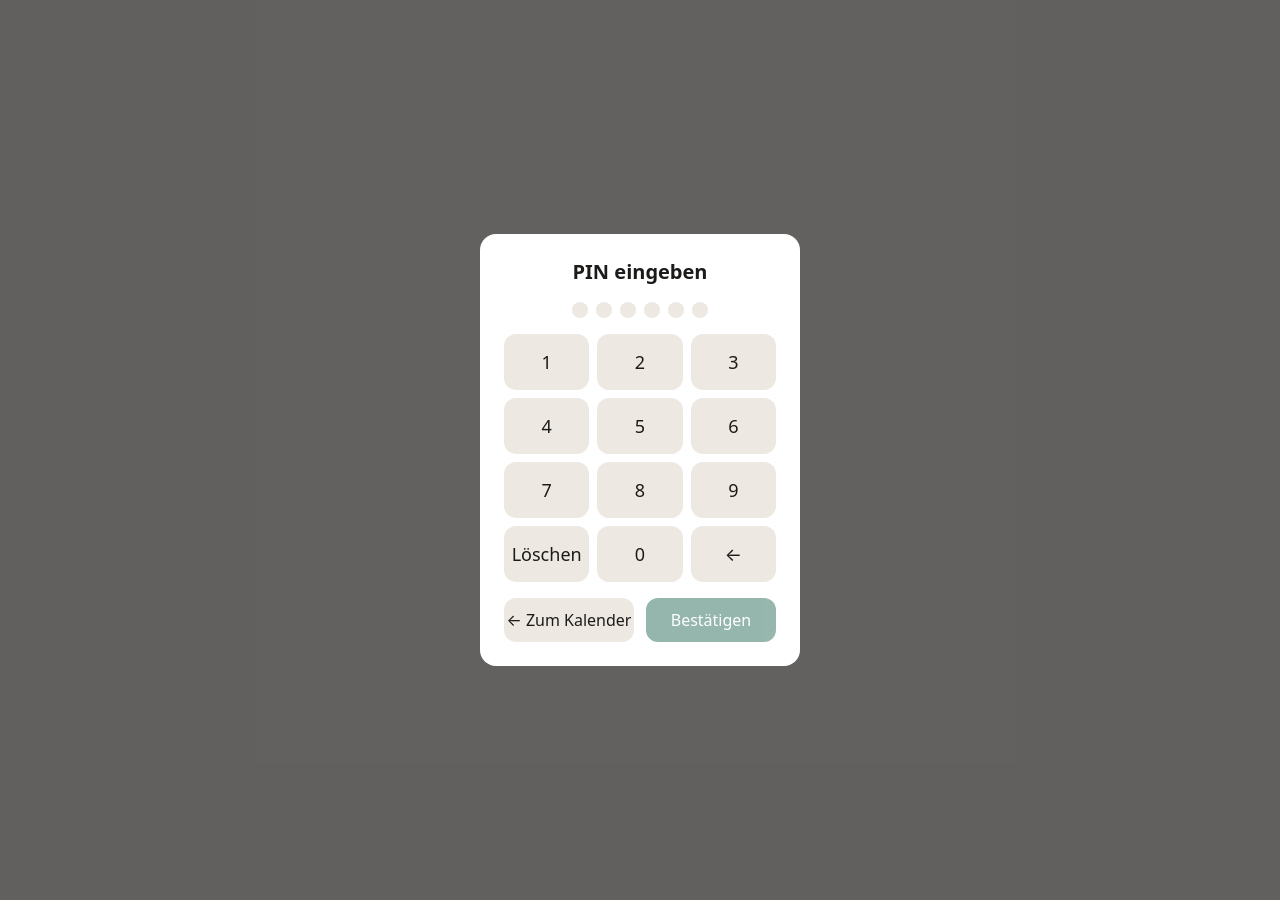
PinGate › shows a fallback error when verification fails with a non-Error
Click the button "1" at (547, 362), box [504, 334, 589, 390]
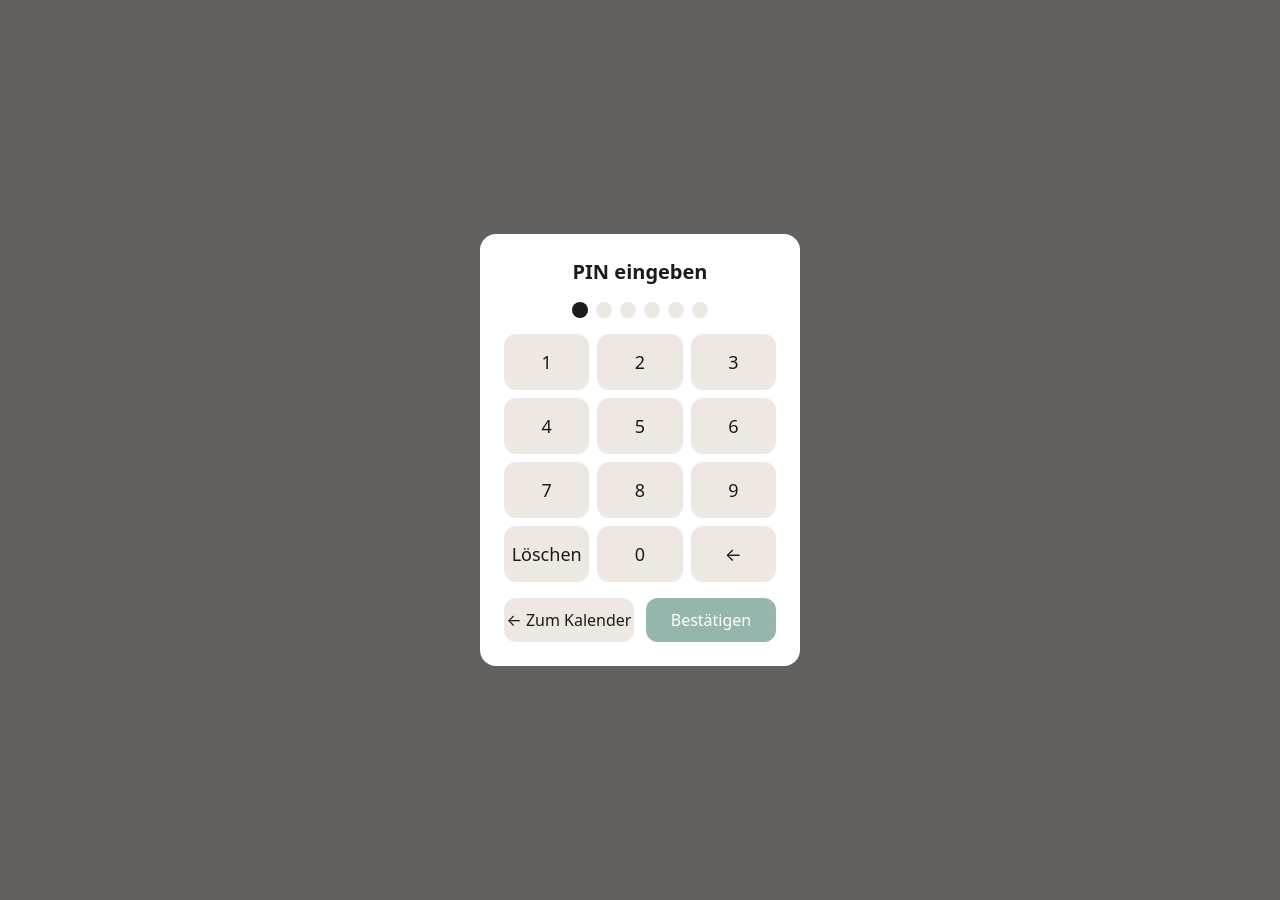
Click the button "2" at (640, 362), box [597, 334, 683, 390]
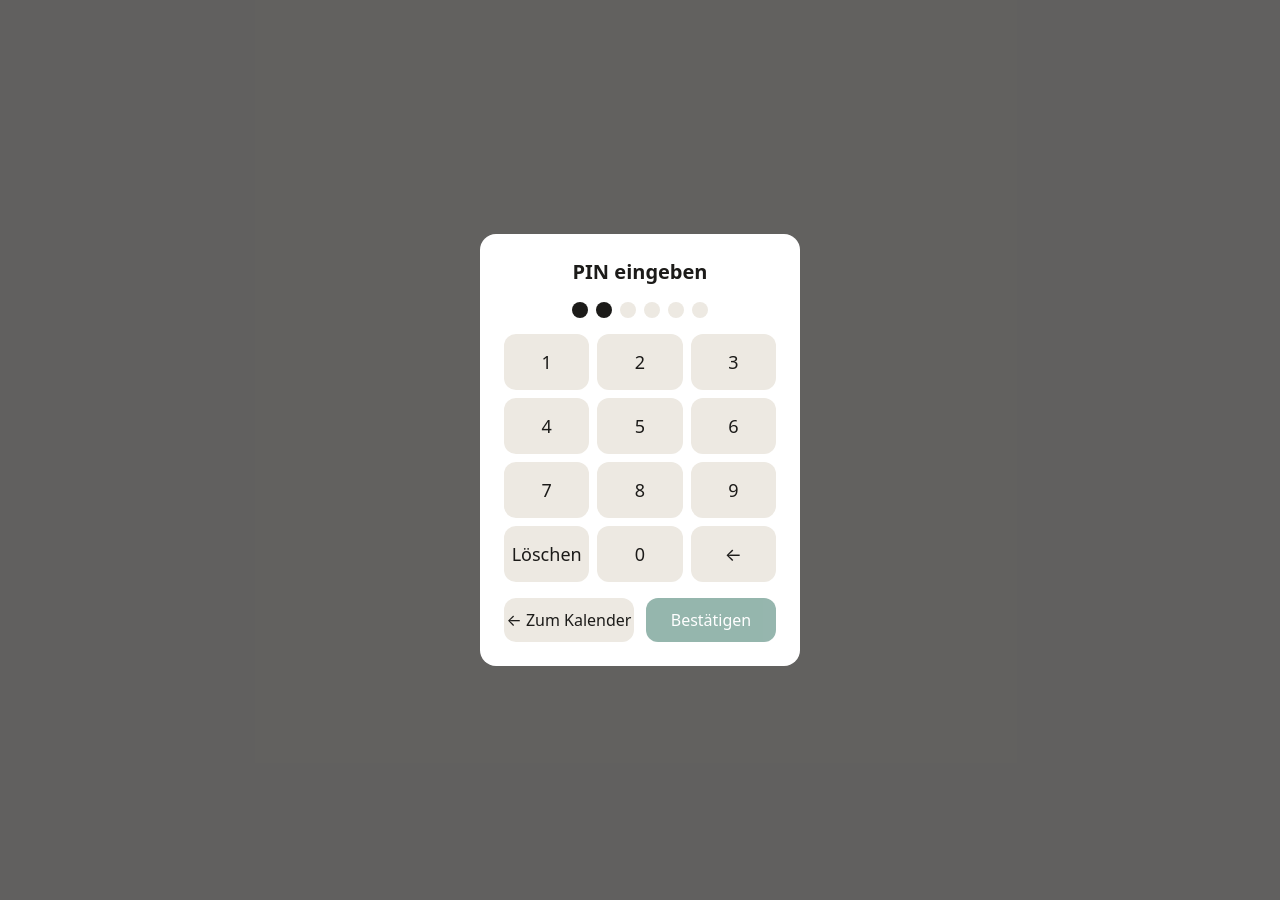
Click the button "3" at (733, 362), box [691, 334, 776, 390]
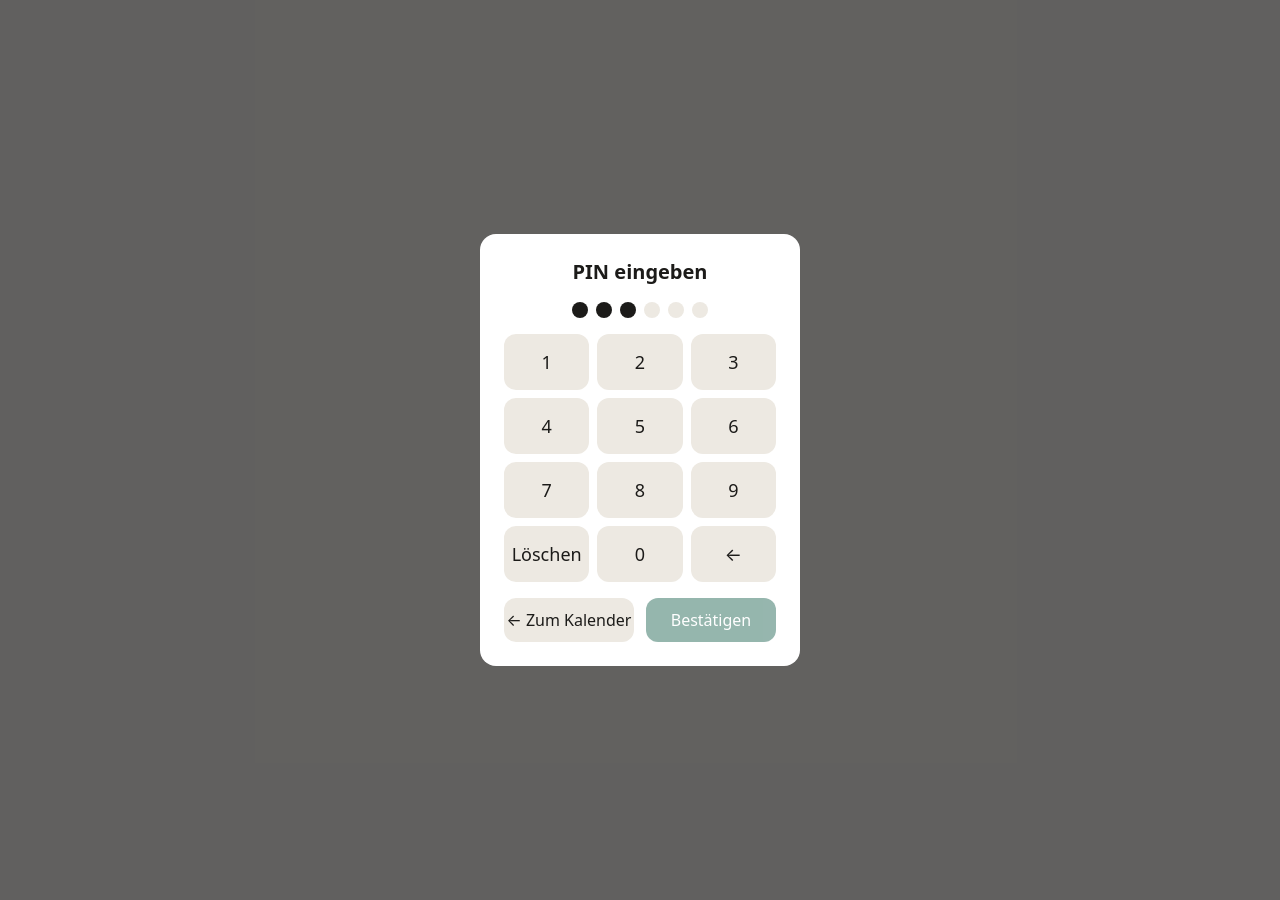
Click the button "4" at (547, 426), box [504, 398, 589, 454]
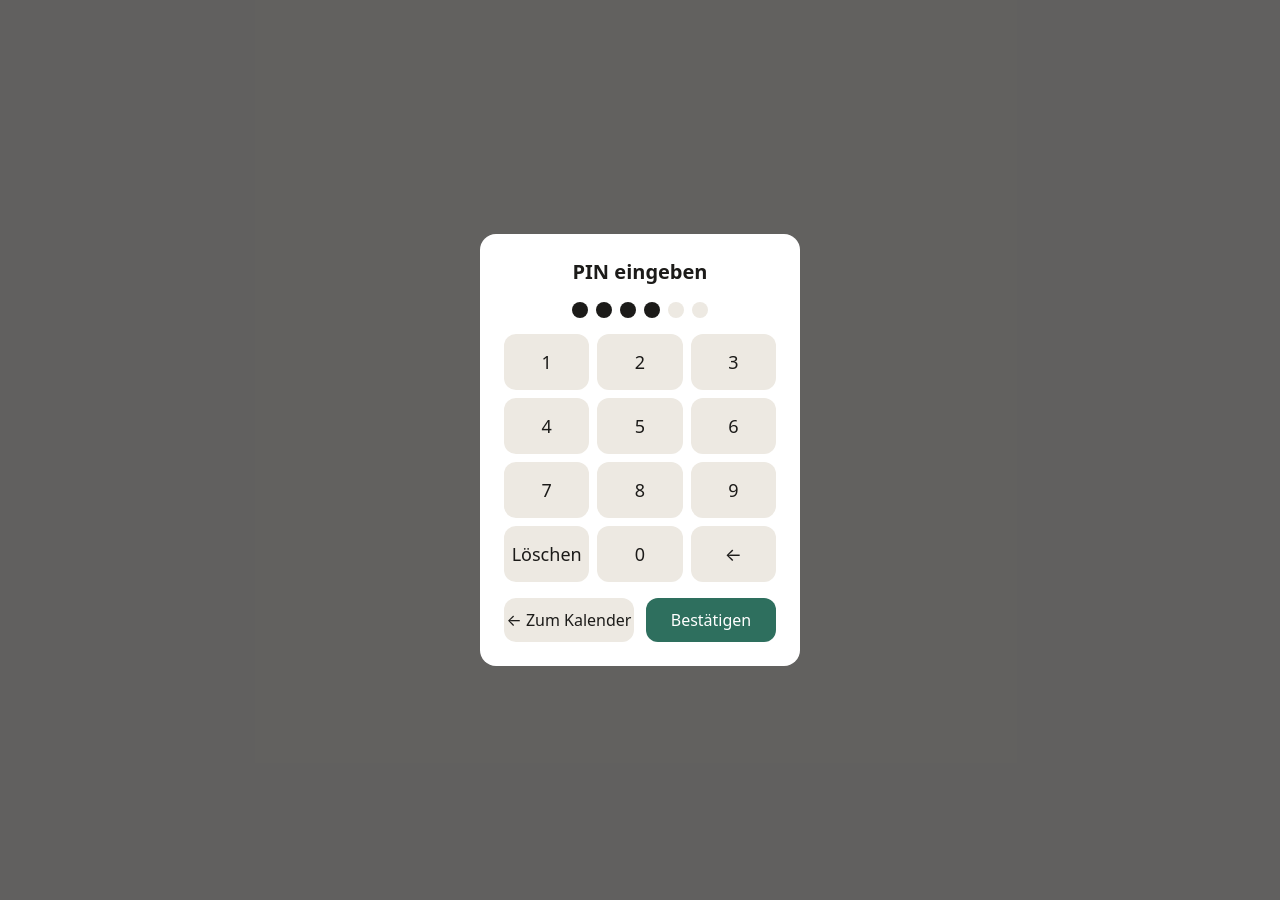
Click the button "Bestätigen" at (711, 620), box [646, 598, 776, 642]
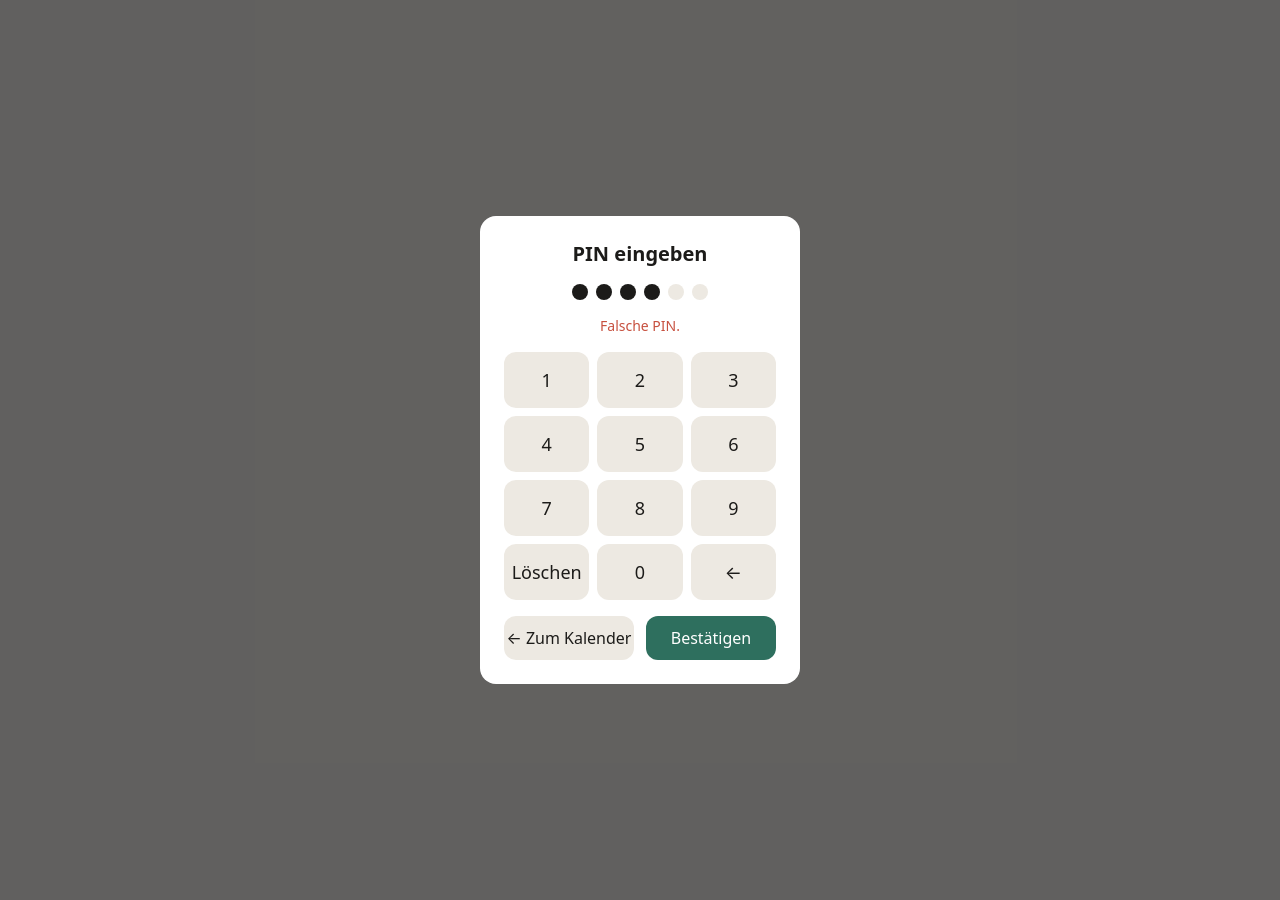
Check: the text "Falsche PIN." is shown, box [600, 316, 680, 335]
